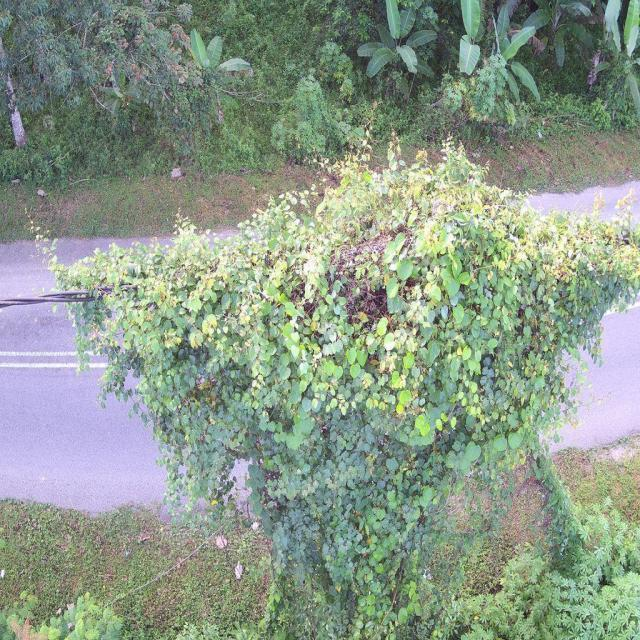critical vegetation: (33, 130, 640, 580)
